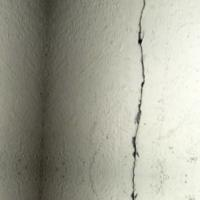crack: (123, 0, 156, 199)
